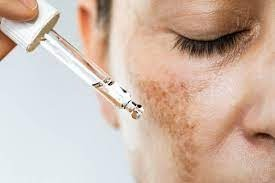Melasma: (127, 33, 252, 110)
